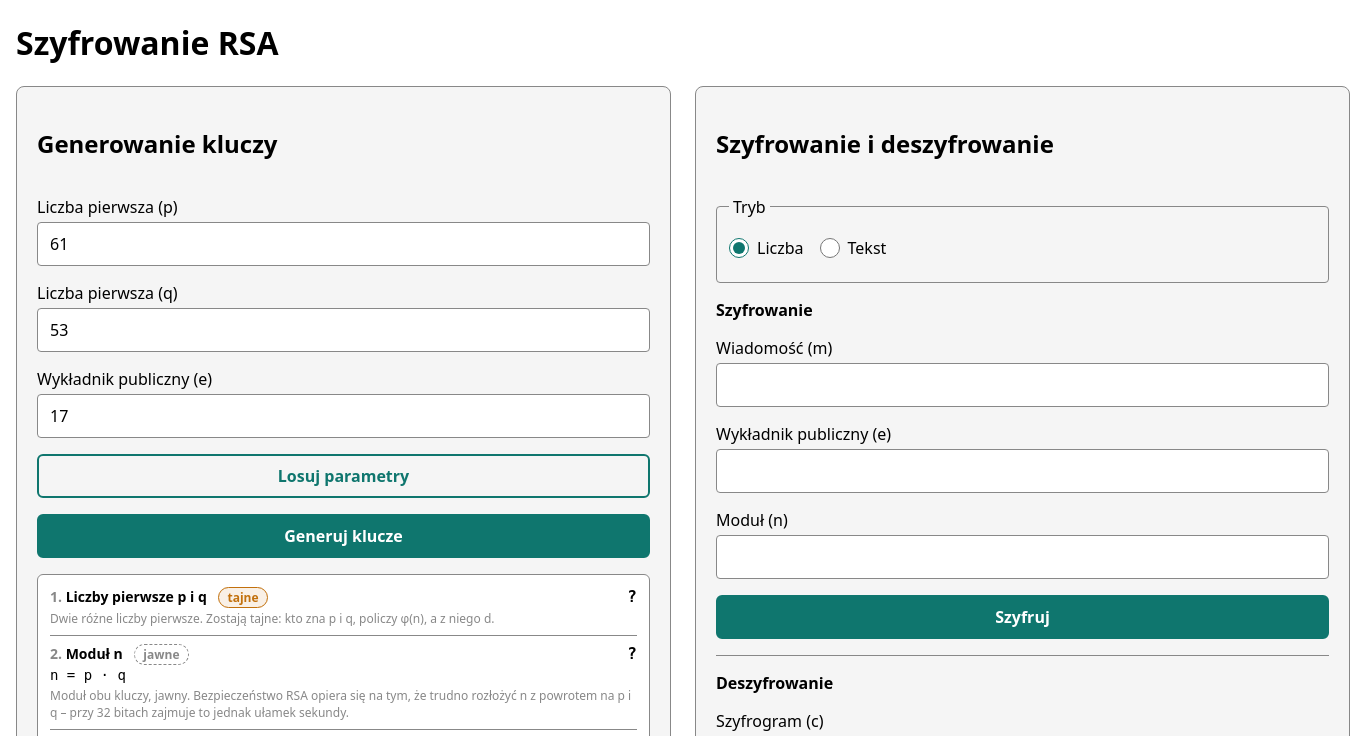
Scenario: RSA – losowanie p, q, e › błąd losowania nie zmienia wpisanych wartości
Click the button "Losuj parametry": (344, 476) left=37, top=454, right=650, bottom=498
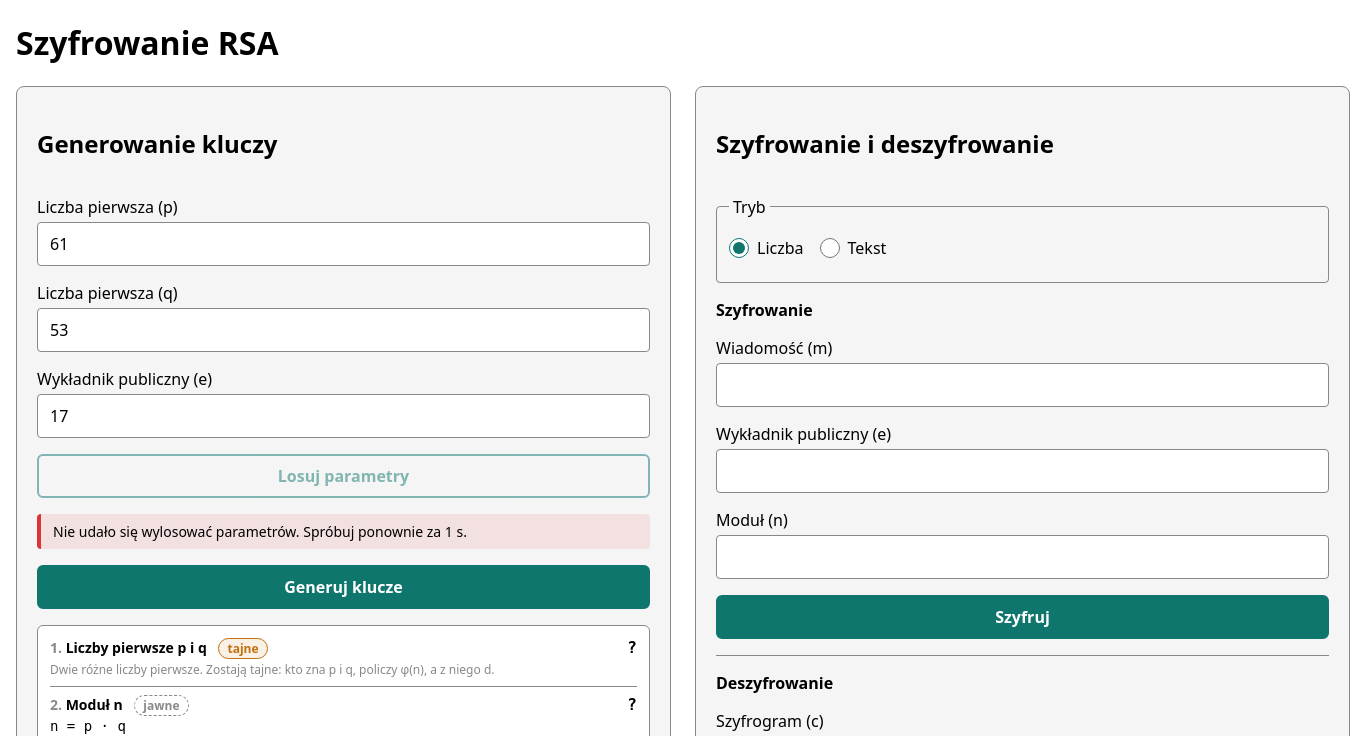
Now the text "Nie udało się wylosować parametrów. Spróbuj ponownie za 1 s." is shown, box left=37, top=514, right=650, bottom=549
